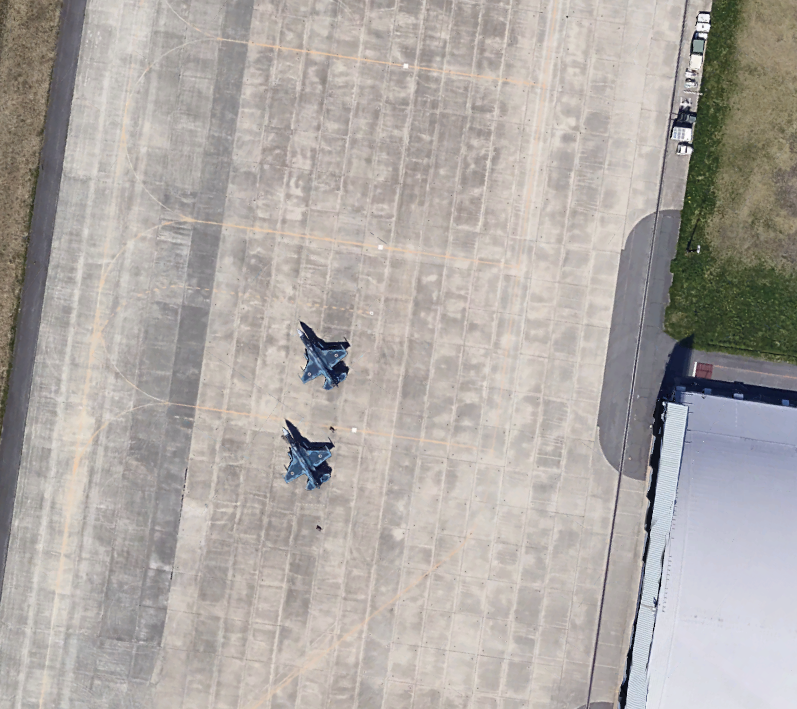A5: (292, 319, 354, 396), (277, 420, 335, 495)
